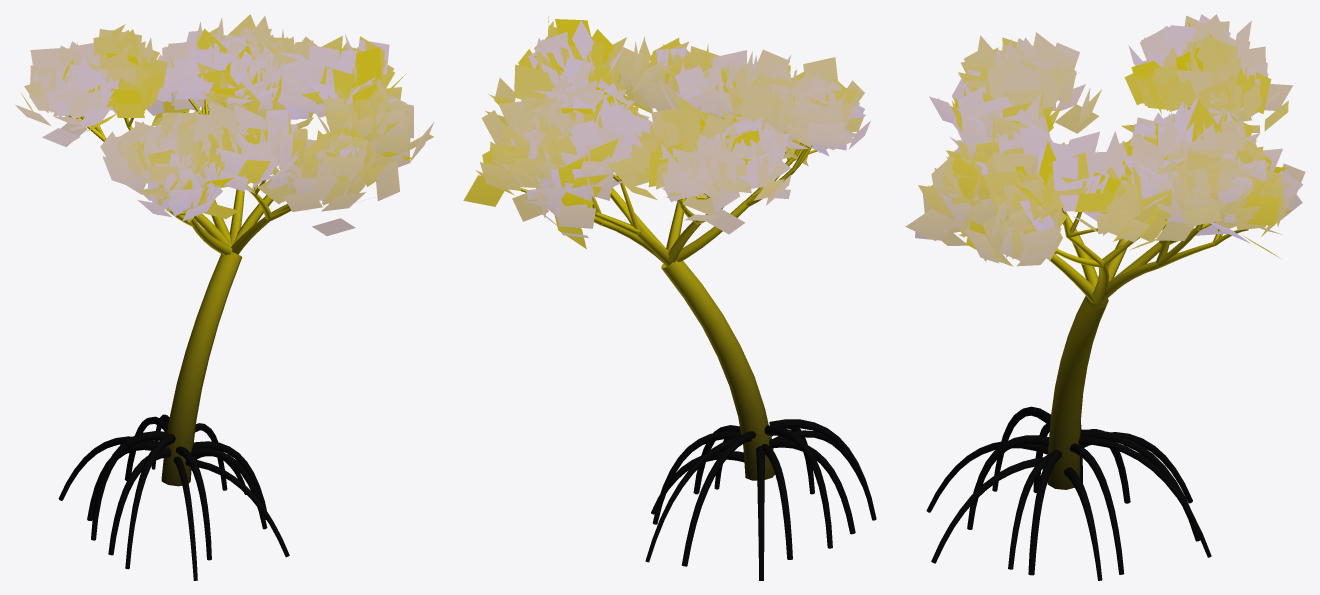
Rendered from mangrove_tall.glb.
3 views of the same model, side by side, from view 1: azimuth 30°, elevation 25°; view 2: azimuth 150°, elevation 25°; view 3: azimuth 270°, elevation 25° (orthographic). The views are drawn at different scales.
Parts seen in each view (by area): view 1: mangrove_tall; view 2: mangrove_tall; view 3: mangrove_tall.
Boxes of the visible parts, box(x1,y1,x2,y2) form: mangrove_tall: box(15, 14, 433, 580); mangrove_tall: box(463, 16, 876, 580); mangrove_tall: box(905, 14, 1305, 580).
Size of what is drawn, in the model's own units: 9.89 by 13.15 by 9.49.
